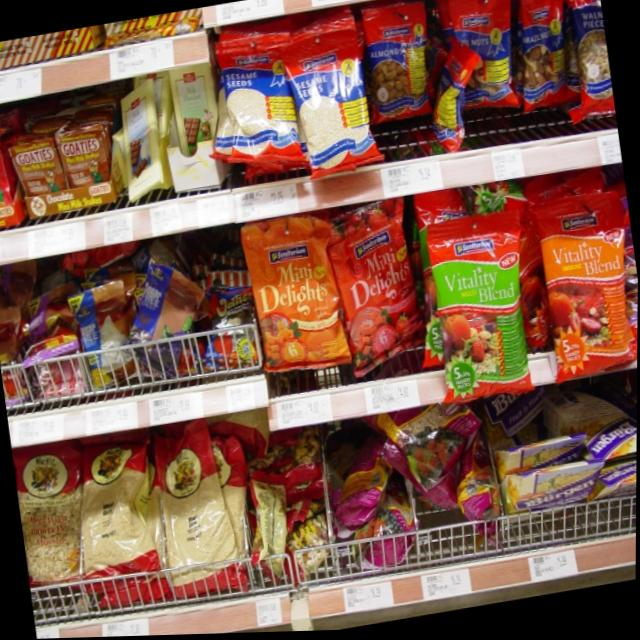q274: (420, 213, 541, 414)
